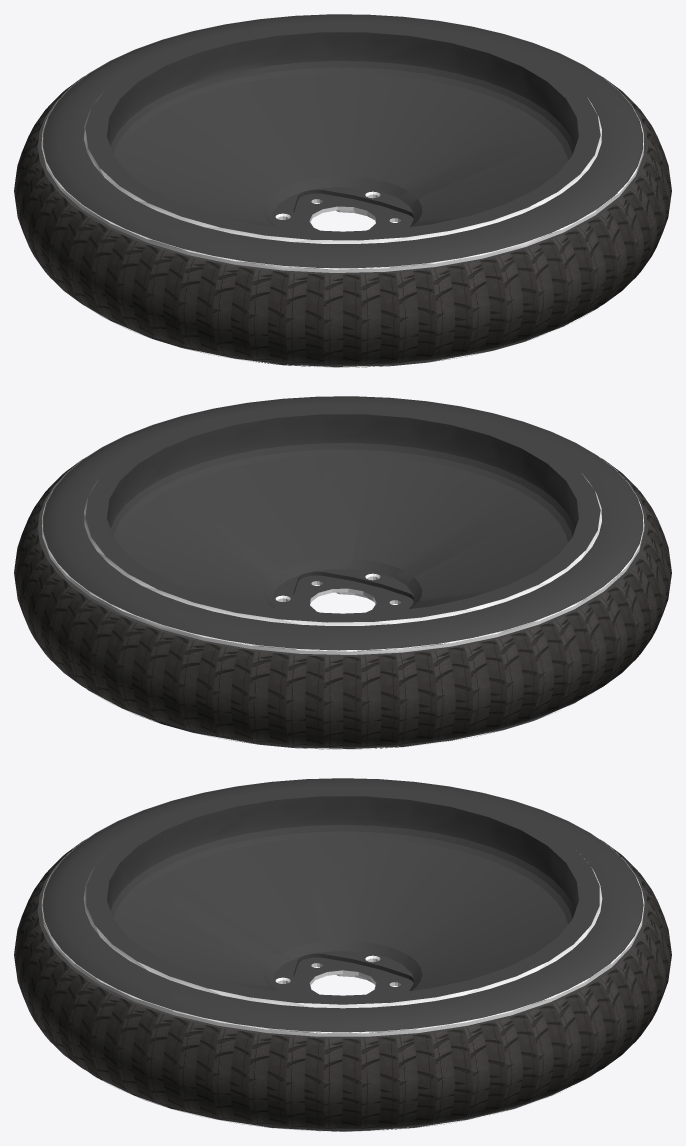
File: Wheel.dae
3 views of the same model, one above another, from view 1: azimuth 30°, elevation 25°; view 2: azimuth 150°, elevation 25°; view 3: azimuth 270°, elevation 25° (orthographic).
Visible parts, largest first — view 1: SketchUp (×9); view 2: SketchUp (×9); view 3: SketchUp (×9).
Part boxes in pixels (x1,y1,x2,y2): SketchUp (×9): [14, 14, 671, 367]; SketchUp (×9): [14, 396, 671, 749]; SketchUp (×9): [14, 778, 671, 1131].
Size of the model in its own units: 18.91 by 18.94 by 3.69.
3 materials, 1 textured.
